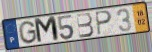3: (117, 8, 133, 33)
5: (57, 14, 75, 41)
B: (75, 12, 95, 40)
G: (18, 20, 39, 45)
M: (33, 15, 62, 45)
P: (94, 10, 113, 37)
